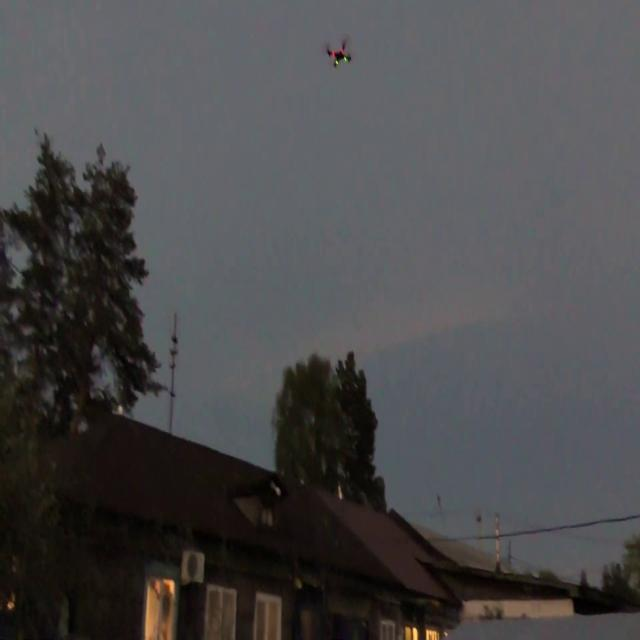Drons: (321, 34, 357, 72)
